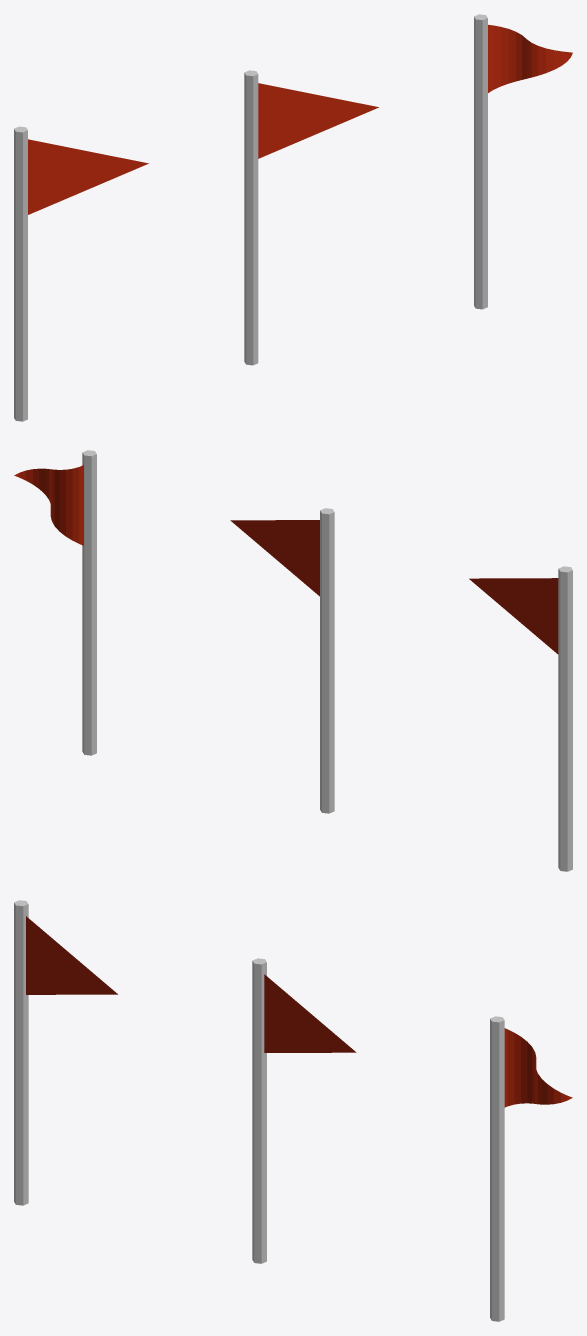
File: ExportedBlenderFBXFile.fbx
3 views of the same model, one above another, from view 1: azimuth 30°, elevation 25°; view 2: azimuth 150°, elevation 25°; view 3: azimuth 330°, elevation 25° (orthographic). The views are drawn at different scales.
Parts seen in each view (by area): view 1: Flag_and_Pole, Flag, Pole, Pole_Anim, Flag_Anim; view 2: Flag_and_Pole, Pole, Pole_Anim, Flag, Flag_Anim; view 3: Flag_and_Pole, Pole_Anim, Pole, Flag, Flag_Anim.
Part boxes in pixels (x1,y1,x2,y2): Flag_and_Pole: (14, 126, 148, 421); Flag: (258, 83, 378, 158); Pole: (244, 70, 258, 365); Pole_Anim: (474, 14, 487, 309); Flag_Anim: (488, 24, 572, 92); Flag_and_Pole: (469, 566, 572, 871); Pole: (320, 508, 334, 813); Pole_Anim: (82, 450, 96, 755); Flag: (230, 520, 319, 596); Flag_Anim: (14, 465, 83, 545); Flag_and_Pole: (14, 900, 117, 1205); Pole_Anim: (490, 1016, 504, 1321); Pole: (252, 958, 266, 1263); Flag: (264, 974, 356, 1052); Flag_Anim: (504, 1028, 572, 1107).
Size of the model in its own units: 2.62 by 1.32 by 0.1864.
